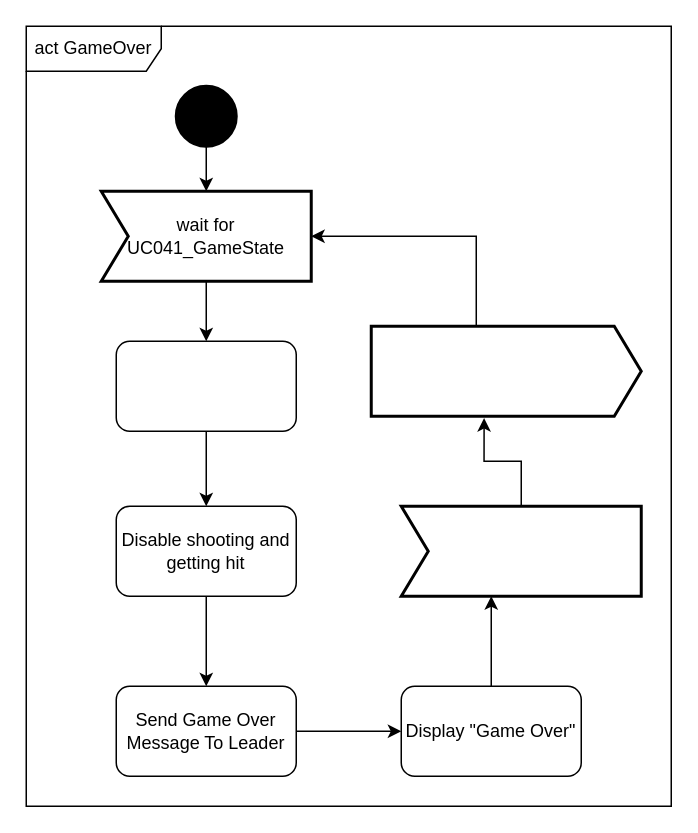
This 698x833 diagram has some shape labels left out. Each missing label, with the centre of its shape:
Count down until end of game Time: point (520, 550)
go to UC2_SendPostGameData: point (505, 370)
Play Game Over sound: point (205, 385)
